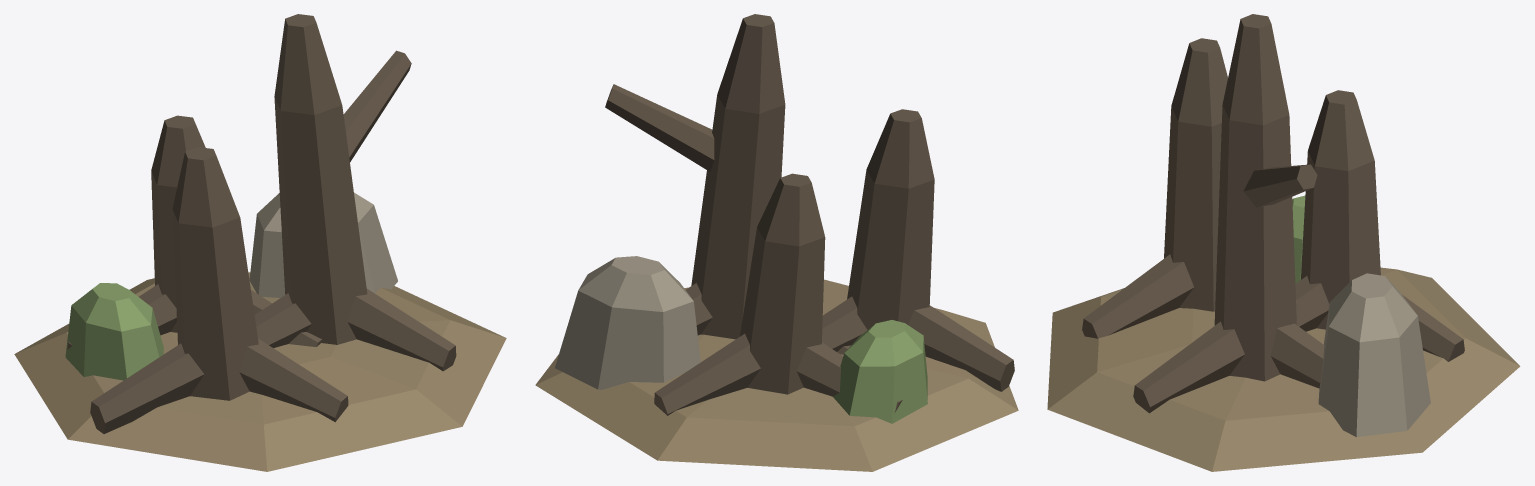
The model's file is Dungeon_RootThicket.fbx.
The picture shows the model from 3 angles, left to right: view 1: azimuth 30°, elevation 25°; view 2: azimuth 150°, elevation 25°; view 3: azimuth 270°, elevation 25°; orthographic projection. The views are drawn at different scales.
Visible parts, largest first — view 1: Dungeon_RootThicket; view 2: Dungeon_RootThicket; view 3: Dungeon_RootThicket.
Boxes of the visible parts, x1,y1,x2,y2 form: Dungeon_RootThicket: (14,14,506,471); Dungeon_RootThicket: (535,14,1018,471); Dungeon_RootThicket: (1047,14,1520,471).
Size of the model in its own units: 4.83 by 3.7 by 4.43.
